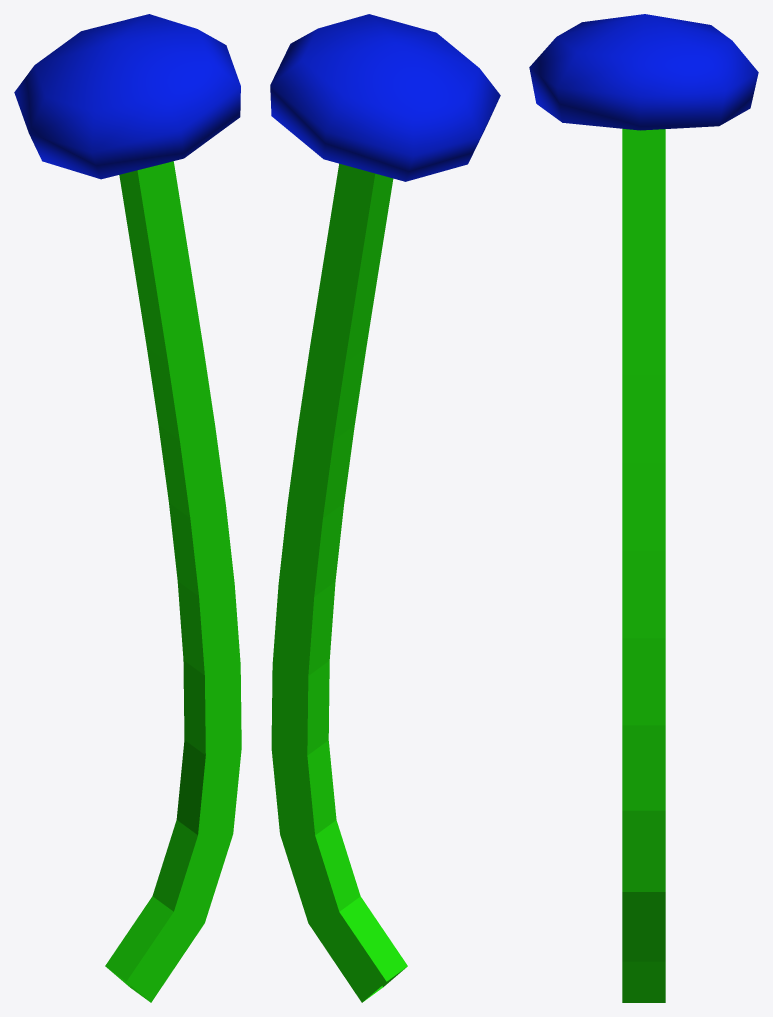
File: Champis53A.fbx
The picture shows the model from 3 angles, left to right: view 1: azimuth 30°, elevation 25°; view 2: azimuth 150°, elevation 25°; view 3: azimuth 270°, elevation 25°; orthographic projection. The views are drawn at different scales.
Visible parts, largest first — view 1: Tallo1.001, Tallo1.004; view 2: Tallo1.001, Tallo1.004; view 3: Tallo1.001, Tallo1.004.
Boxes of the visible parts, <box> form: Tallo1.001: <box>105,161,241,1002</box>; Tallo1.004: <box>14,14,240,179</box>; Tallo1.001: <box>271,163,407,1002</box>; Tallo1.004: <box>270,14,500,181</box>; Tallo1.001: <box>622,128,665,1002</box>; Tallo1.004: <box>529,14,758,130</box>.
Size of the model in its own units: 383 by 1752 by 373.
